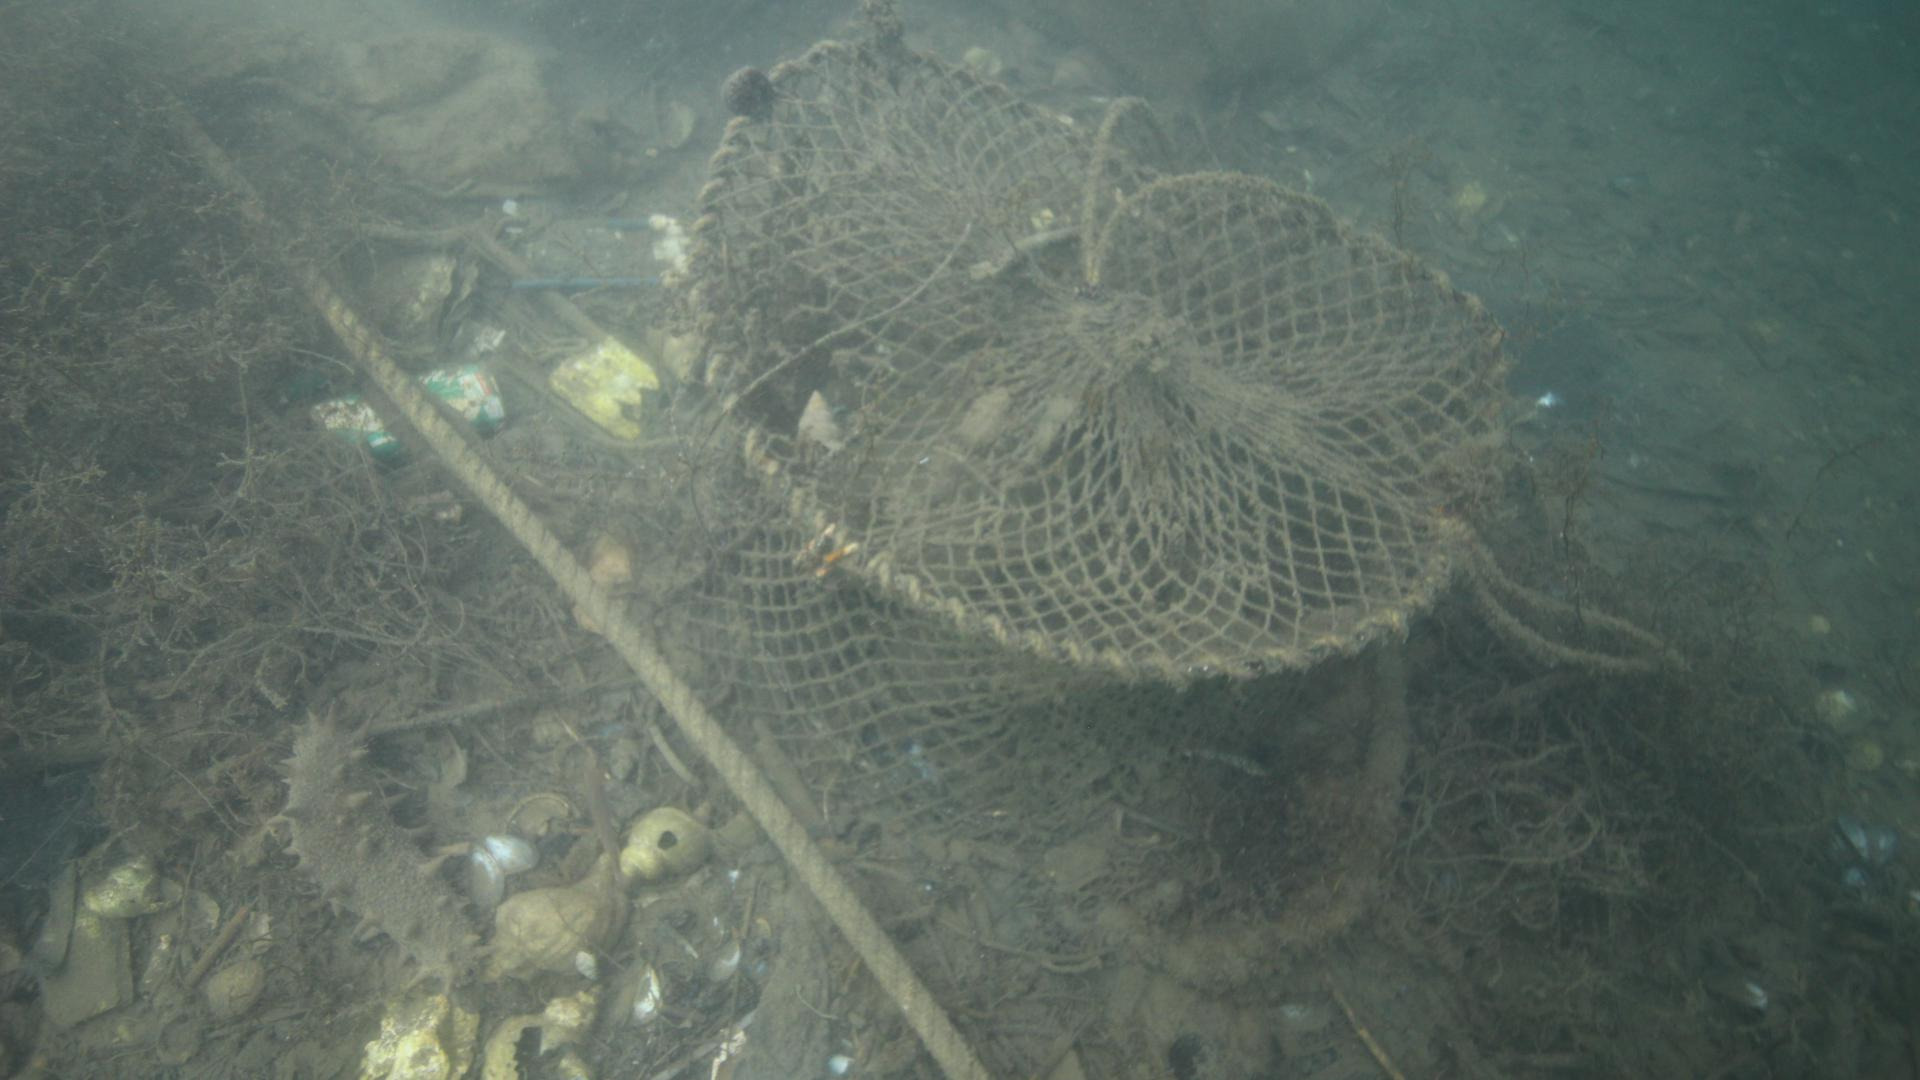circular fish trap: (678, 28, 1510, 851)
rope: (153, 91, 996, 1080)
